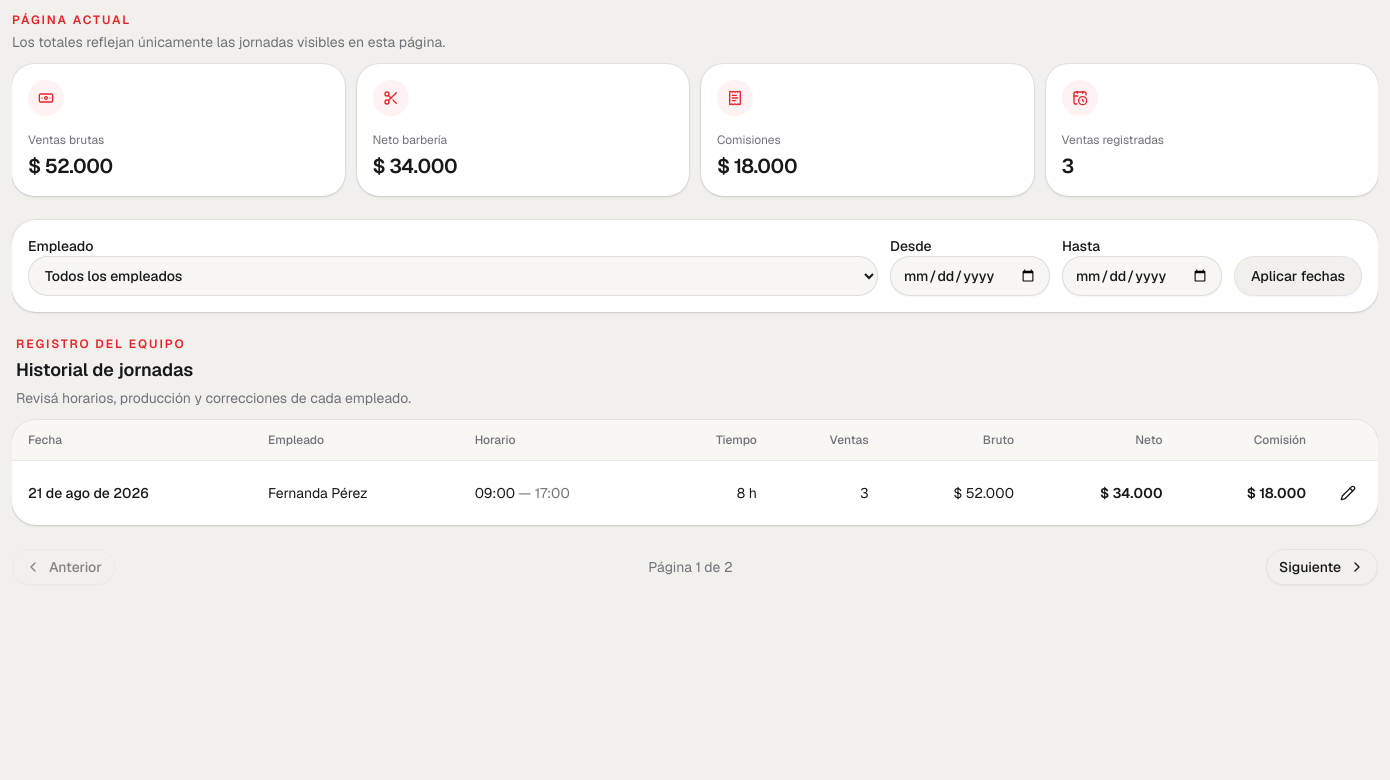
marks manager metrics as page-only and updates them on pagination
Expected: the text "Página actual" is shown, [12,12,131,28]
Click the button "Siguiente".
click(1322, 567)  # box [1266,549,1378,585]
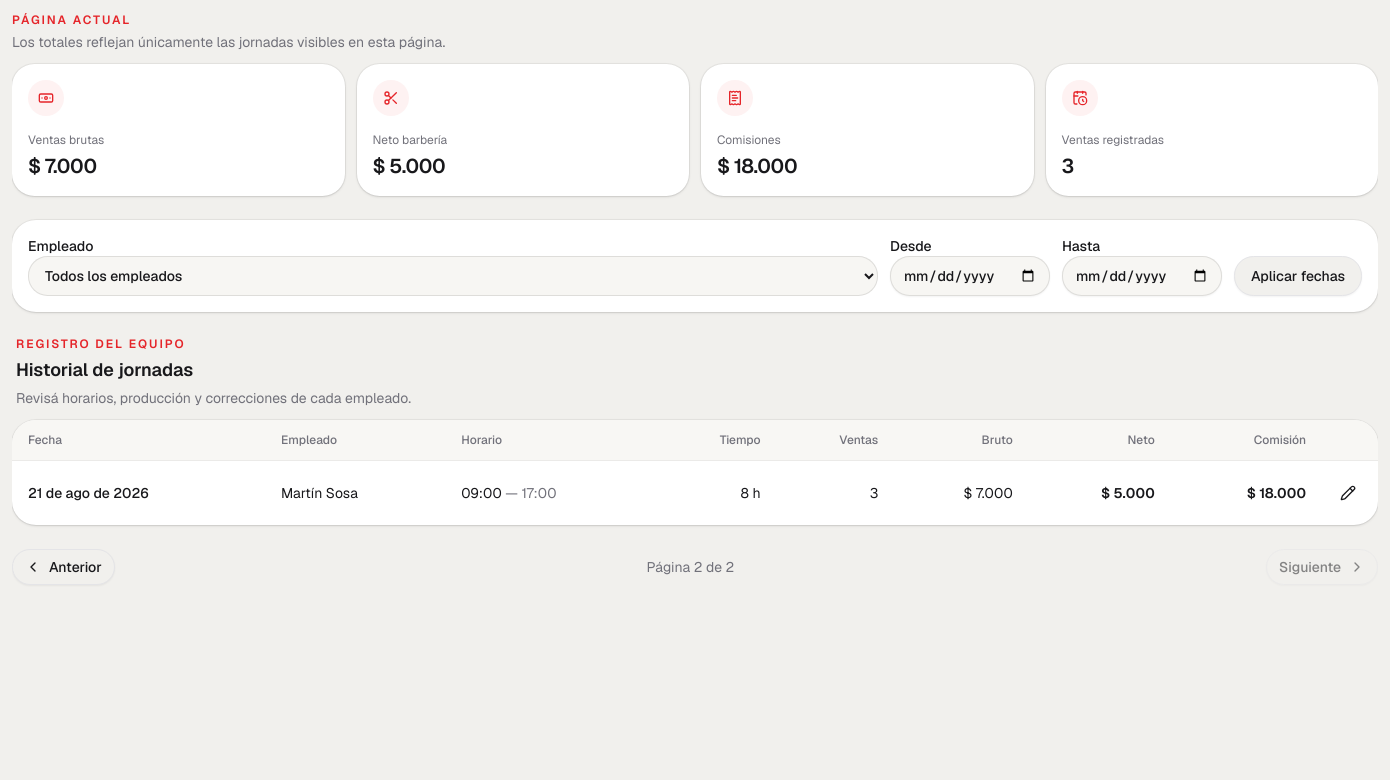
Now the text "$ 7.000" is shown, box [28,153,96,179]
Now the text "Página 2 de 2" is shown, box [647,557,734,577]
